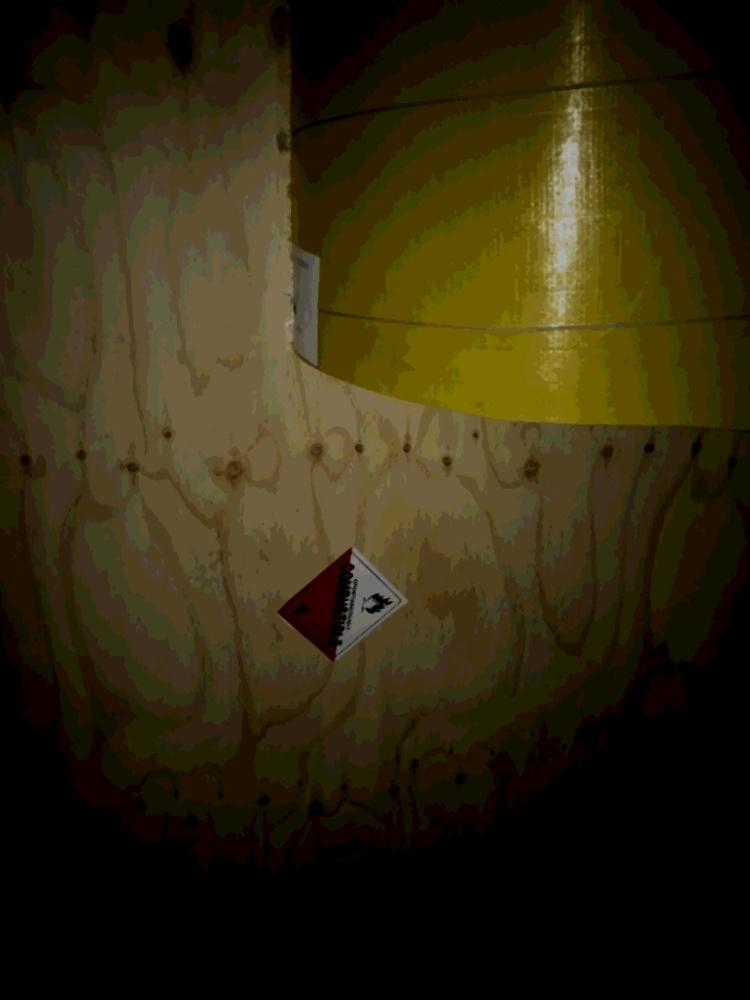spontaneously-combustible: (274, 543, 410, 669)
